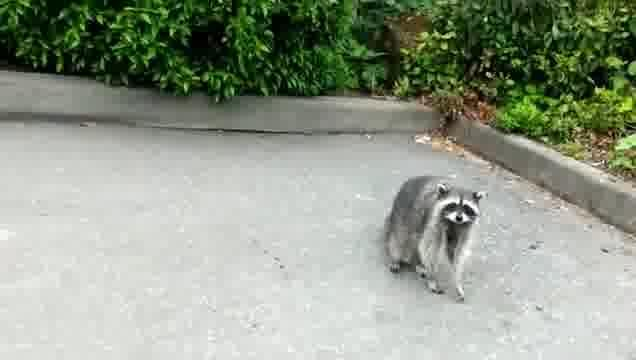raccoon: (382, 174, 483, 305)
